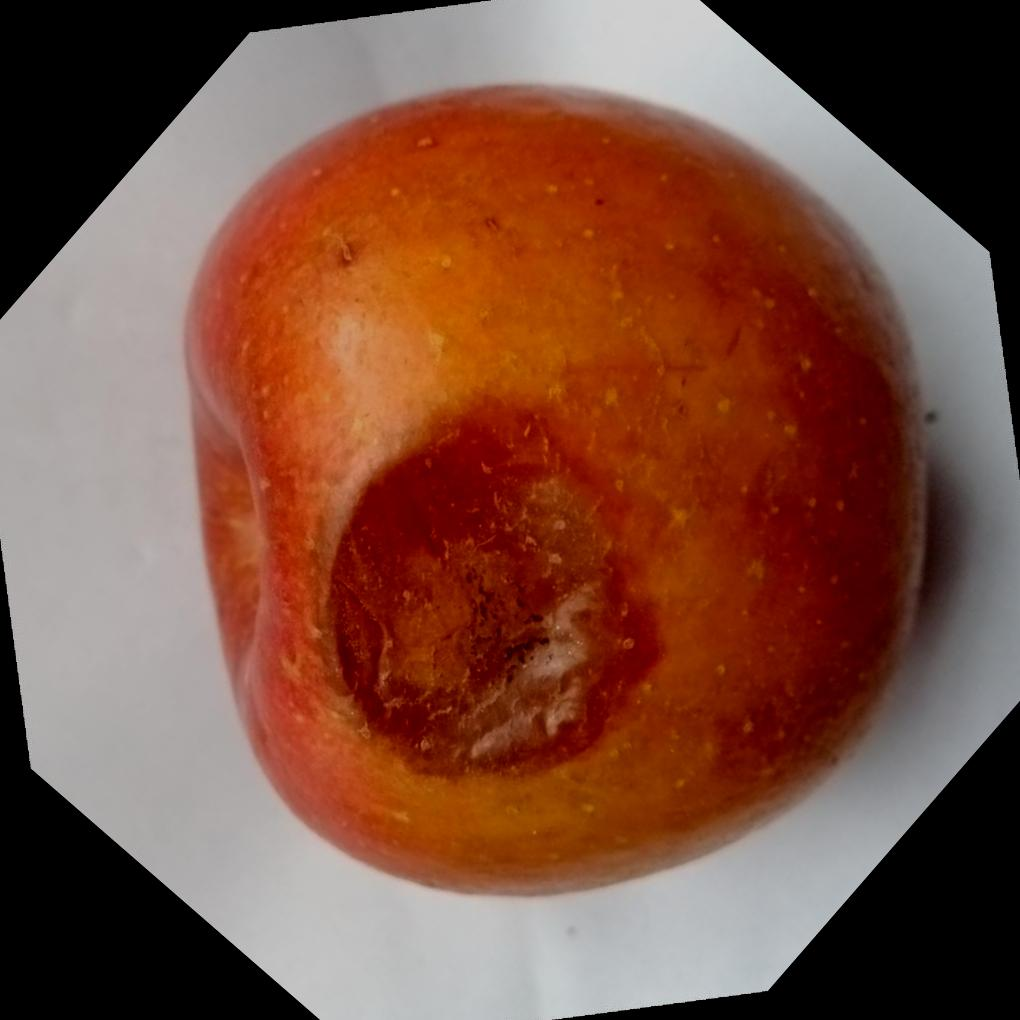FreshOrange: (183, 82, 933, 903)
